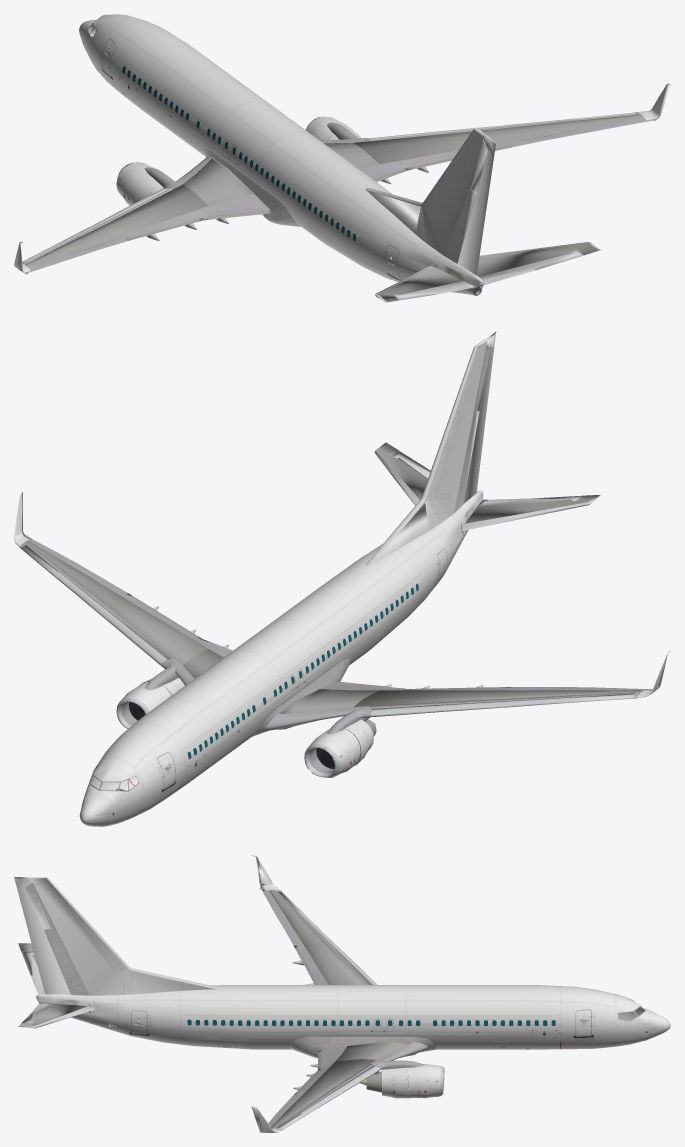
3 views of the same model, one above another, from view 1: azimuth 30°, elevation 25°; view 2: azimuth 150°, elevation 25°; view 3: azimuth 270°, elevation 25° (orthographic). The views are drawn at different scales.
Parts seen in each view (by area): view 1: EexitLF, Circle_006; view 2: EexitLF, Circle_006; view 3: EexitLF, Circle_006.
Boxes of the visible parts, box(x1,y1,x2,y2) form: EexitLF: box(79, 14, 495, 295); Circle_006: box(14, 23, 670, 302); EexitLF: box(79, 331, 496, 826); Circle_006: box(14, 346, 670, 791); EexitLF: box(14, 877, 670, 1098); Circle_006: box(18, 855, 645, 1132).
Bounding box in the file's own units: 35.69 × 12.12 × 39.42.
2 materials, 2 textured.
